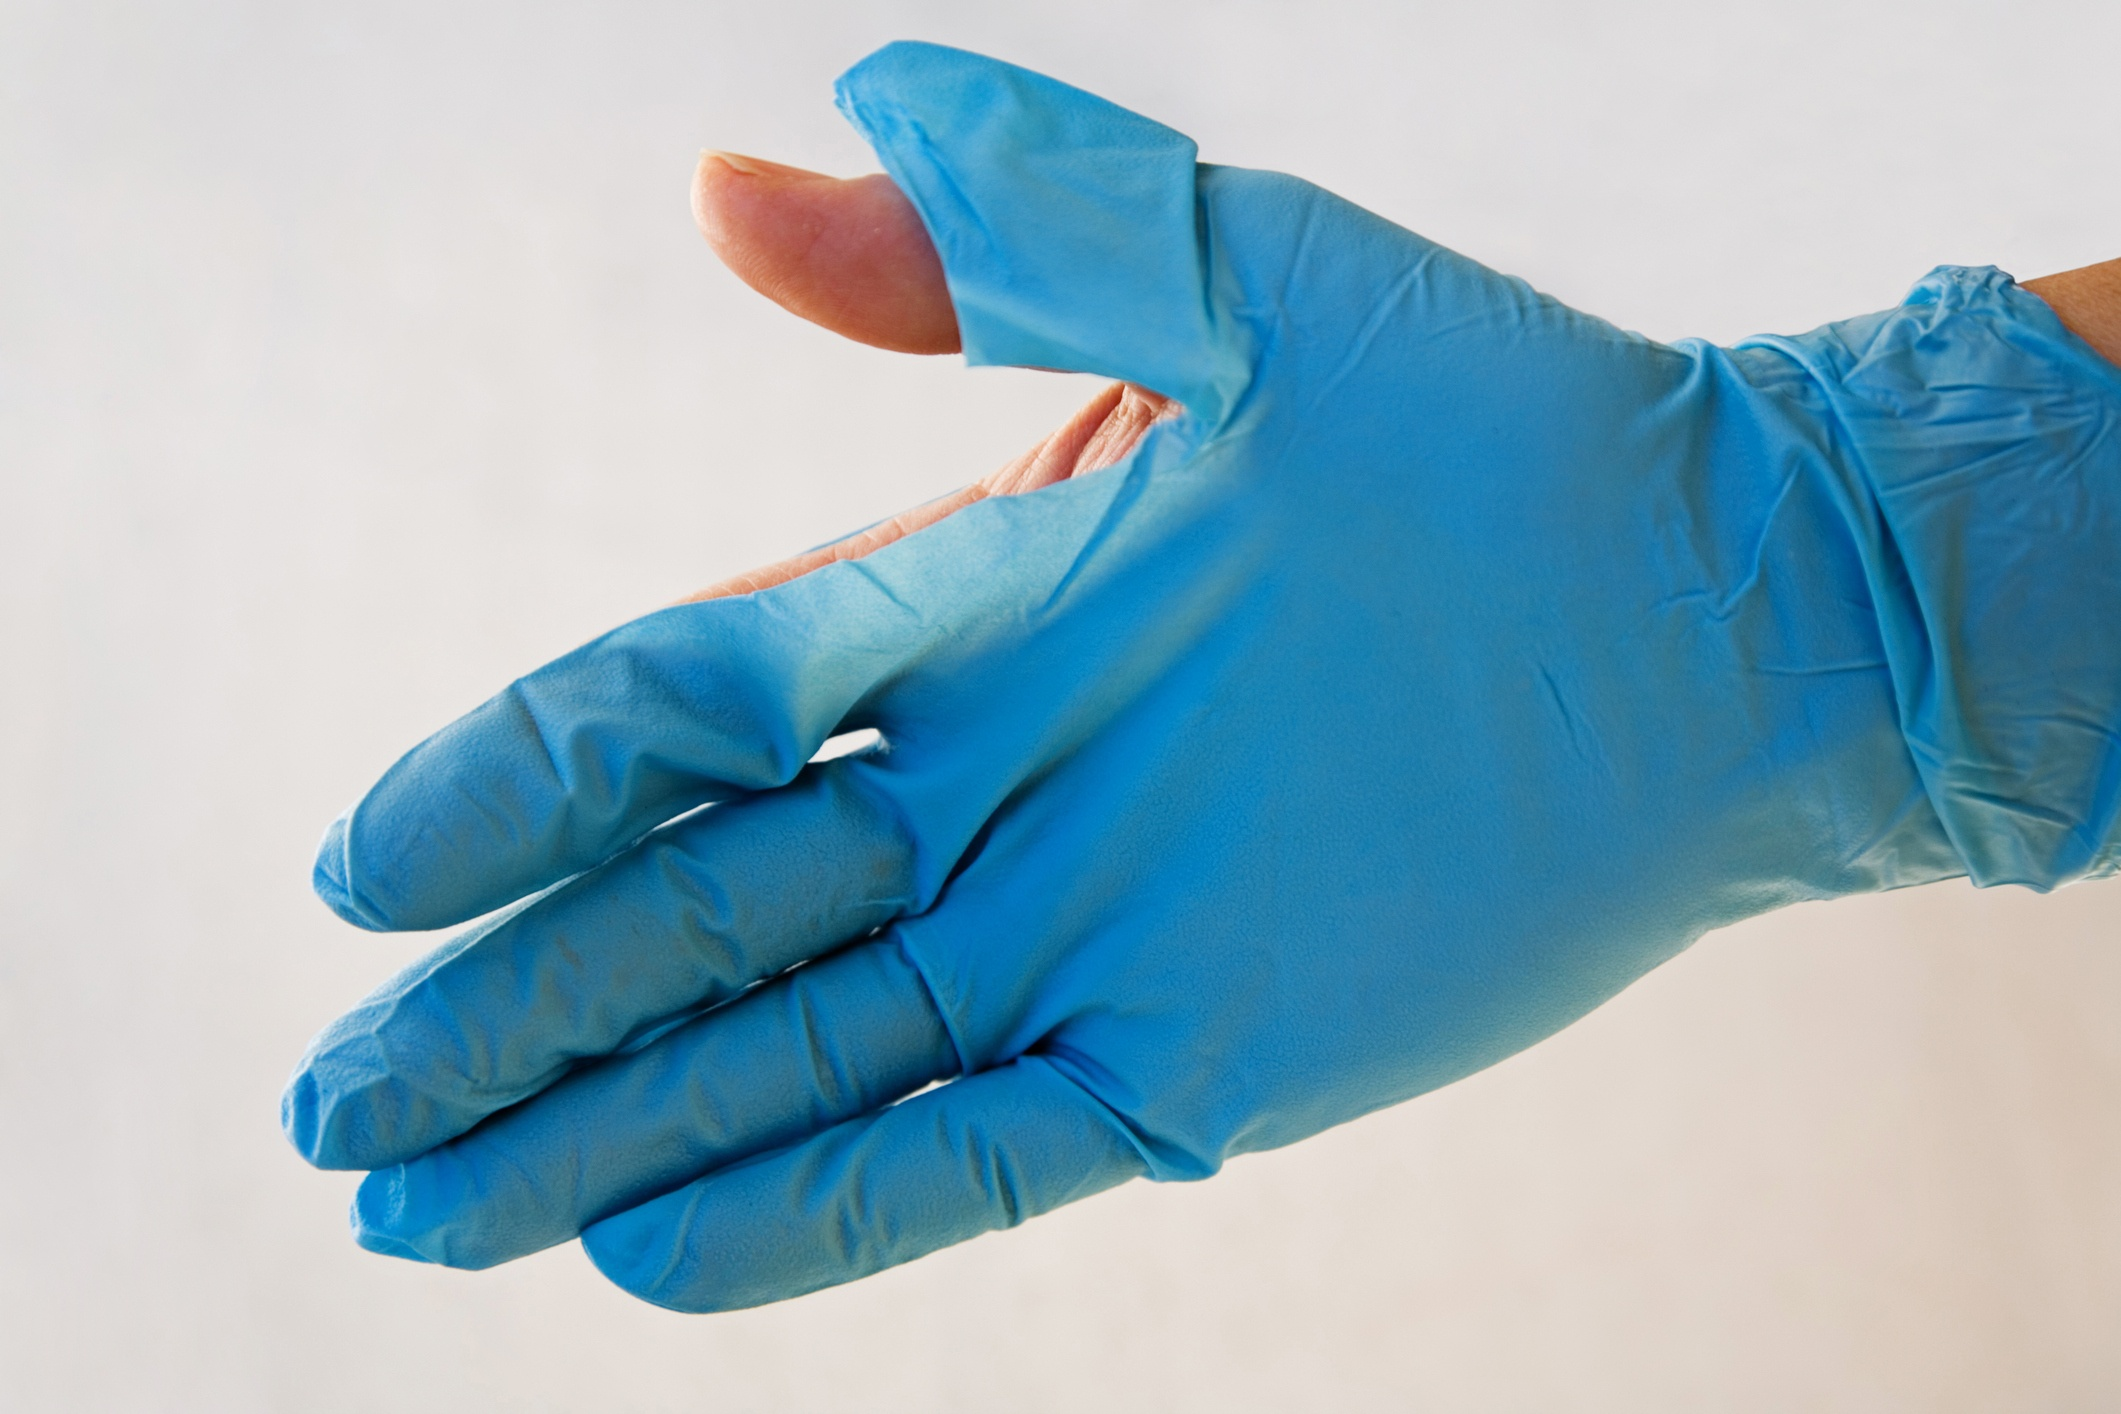defected: (243, 2, 2089, 1382)
